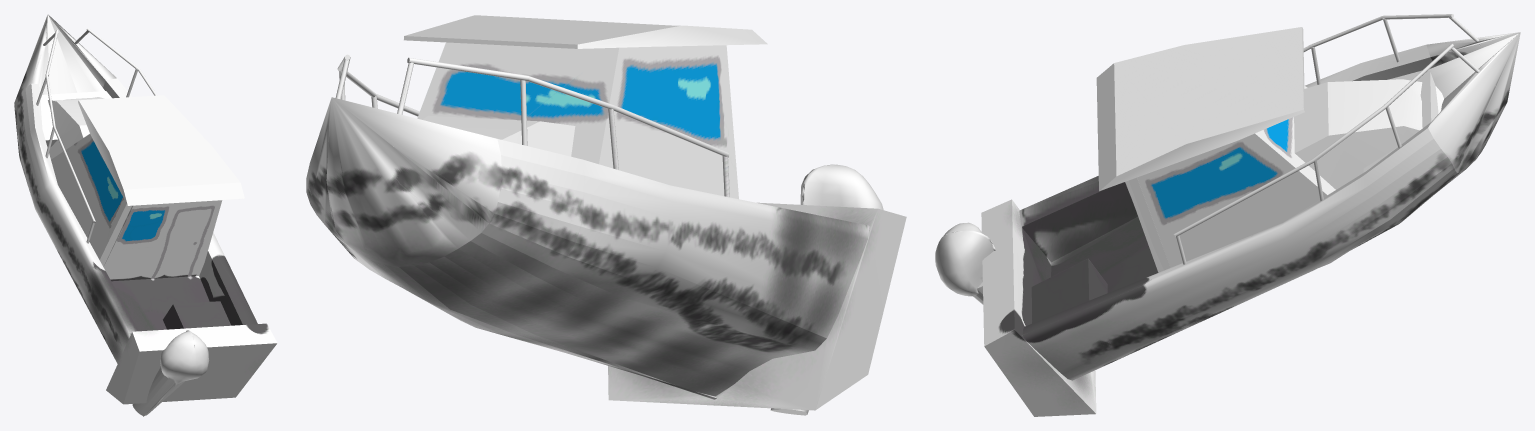
File: BoatNew.fbx
3 views of the same model, side by side, from view 1: azimuth 30°, elevation 25°; view 2: azimuth 150°, elevation 25°; view 3: azimuth 270°, elevation 25° (orthographic). The views are drawn at different scales.
Visible parts, largest first — view 1: node_id68, node_id40; view 2: node_id68, node_id40; view 3: node_id68, node_id40.
Boxes of the visible parts, left/top/right/bottom form: node_id68: left=14, top=14, right=277, bottom=404; node_id40: left=132, top=330, right=209, bottom=416; node_id68: left=306, top=15, right=906, bottom=410; node_id40: left=770, top=164, right=883, bottom=415; node_id68: left=981, top=14, right=1520, bottom=416; node_id40: left=935, top=222, right=995, bottom=304.
Bounding box in the file's own units: 0.2239 × 0.3798 × 0.5263.
Materials: 2 (2 with a texture image).
